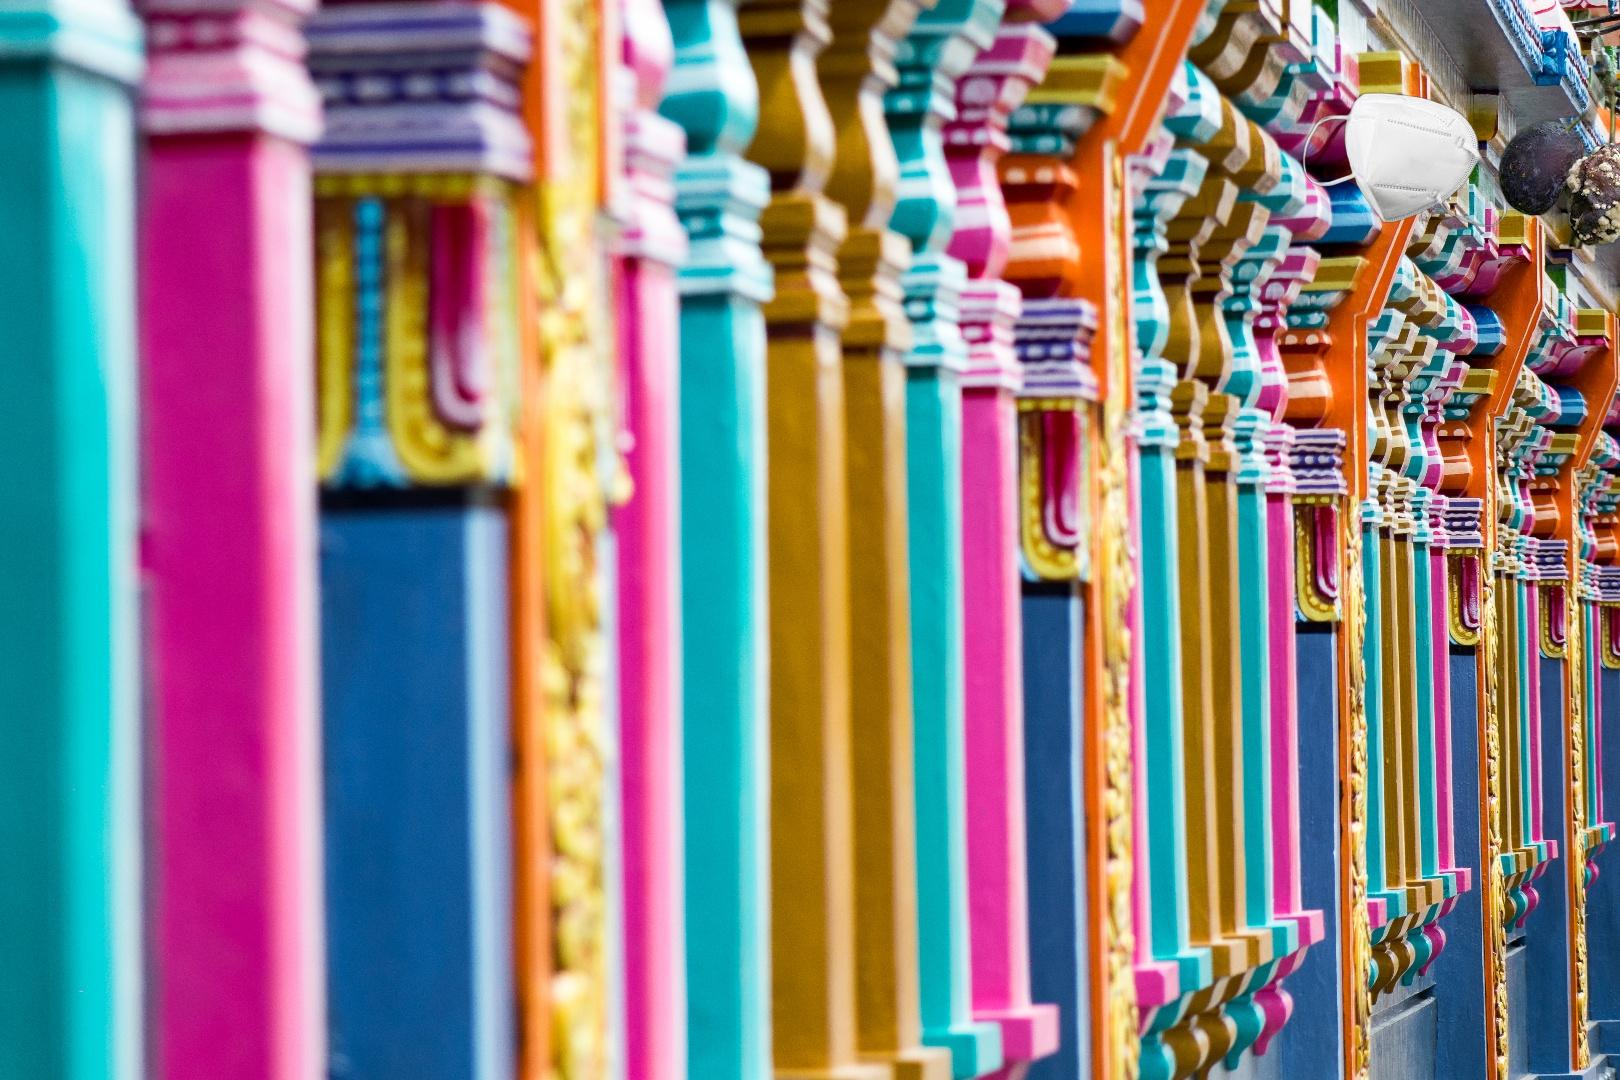biological: (1493, 55, 1620, 250)
trash: (1301, 90, 1510, 229)
